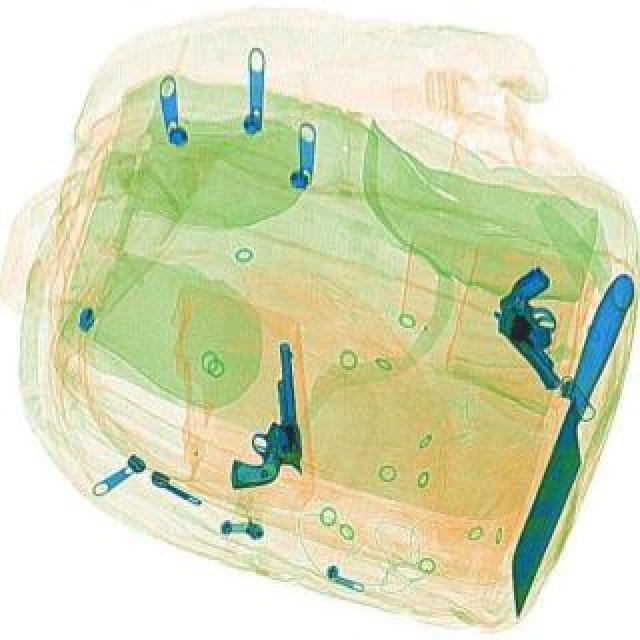gun: (480, 262, 610, 390), (220, 338, 312, 486)
knife: (492, 268, 640, 620)
